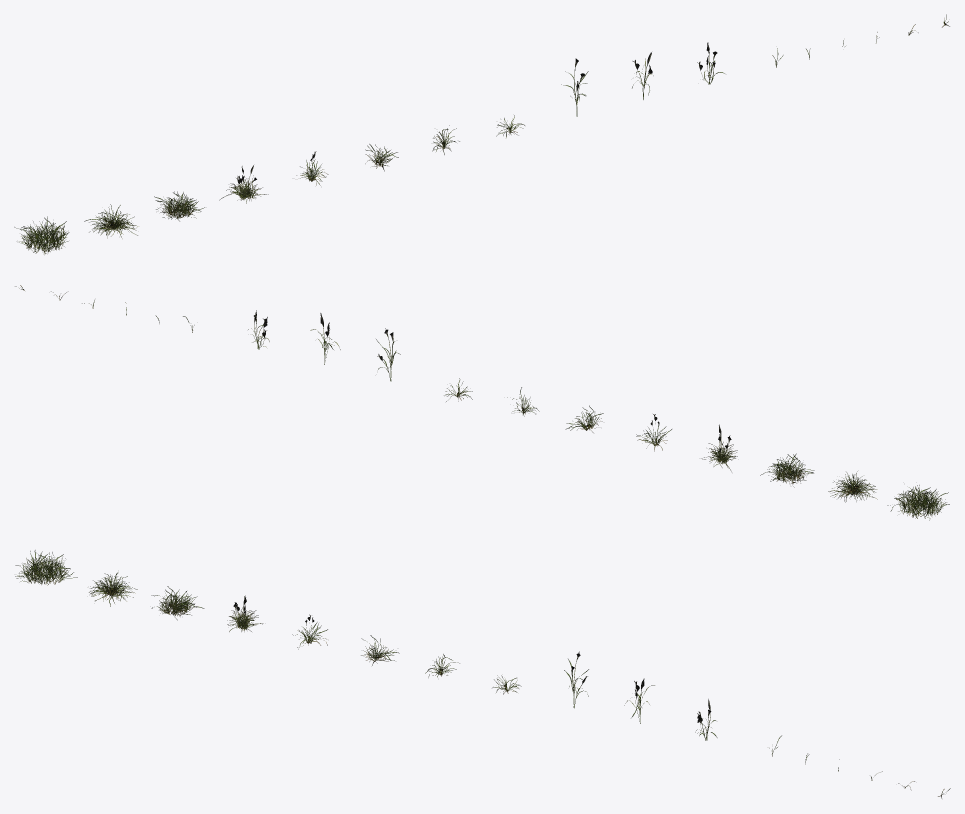
The model's file is grass_medium_01.glb.
The picture shows the model from 3 angles, top to bottom: view 1: azimuth 30°, elevation 25°; view 2: azimuth 150°, elevation 25°; view 3: azimuth 330°, elevation 25°; orthographic projection.
Parts seen in each view (by area): view 1: grass_medium_01_small_a_LOD0; view 2: grass_medium_01_small_a_LOD0; view 3: grass_medium_01_small_a_LOD0.
Part boxes in pixels (x1,y1,x2,y2): grass_medium_01_small_a_LOD0: [14, 14, 949, 254]; grass_medium_01_small_a_LOD0: [15, 285, 949, 520]; grass_medium_01_small_a_LOD0: [15, 550, 950, 798].
Size of the model in its own units: 5.6 by 0.3428 by 0.3264.
1 material, 1 textured.
